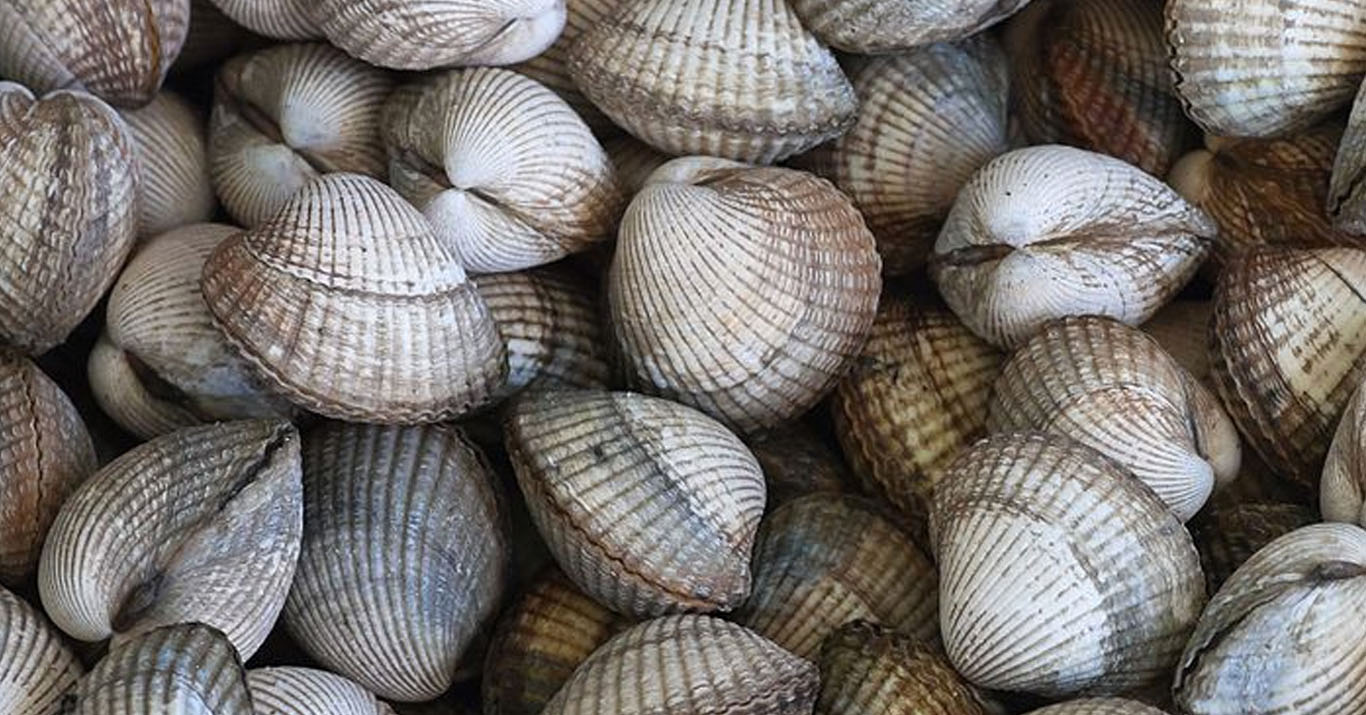cockle: (193, 165, 517, 428), (604, 149, 888, 434), (920, 429, 1203, 697), (33, 413, 312, 666), (267, 426, 511, 705), (501, 386, 774, 621), (922, 142, 1222, 352), (981, 308, 1255, 529), (82, 215, 314, 444), (377, 65, 630, 274), (559, 2, 864, 166), (1198, 231, 1366, 482), (3, 73, 148, 361), (193, 37, 399, 229), (745, 481, 955, 665), (1167, 521, 1364, 715), (998, 1, 1198, 187), (832, 300, 1003, 510), (518, 605, 825, 715), (834, 32, 1005, 215), (1171, 119, 1340, 260), (472, 557, 613, 710), (466, 265, 618, 405), (1, 8, 198, 113), (317, 1, 571, 81), (63, 624, 263, 715), (108, 78, 214, 239), (1, 571, 95, 715), (227, 653, 389, 715)
